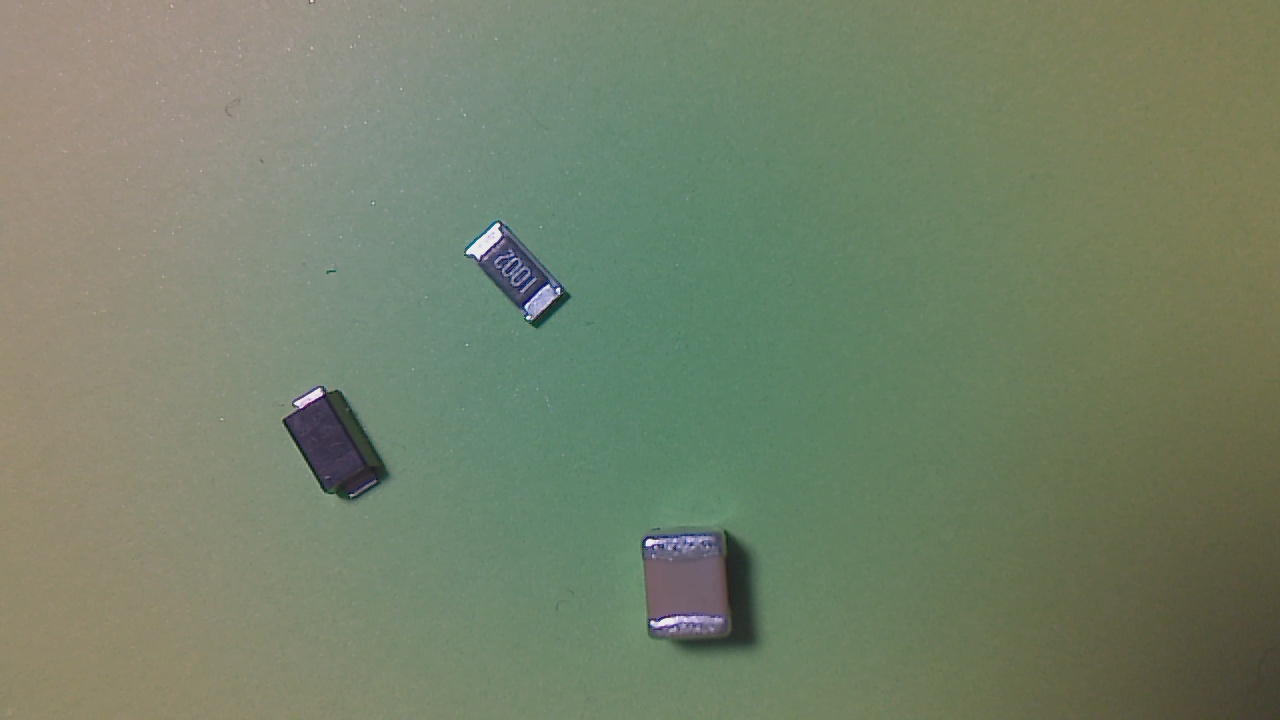Condensator: (642, 534, 739, 646)
Diode: (288, 389, 391, 505)
Resistor: (467, 223, 574, 331)
